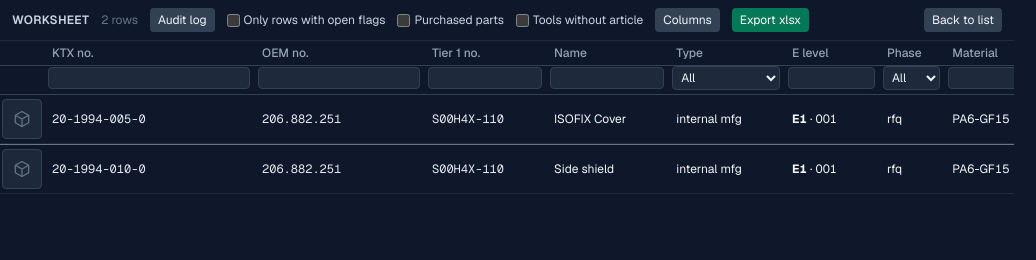
Test case: WorksheetView › lists articles sorted by part number, purchased rows only on request
Click the checkbox with test id "ws-kind-purchased": point(404, 20) [398,14,410,26]
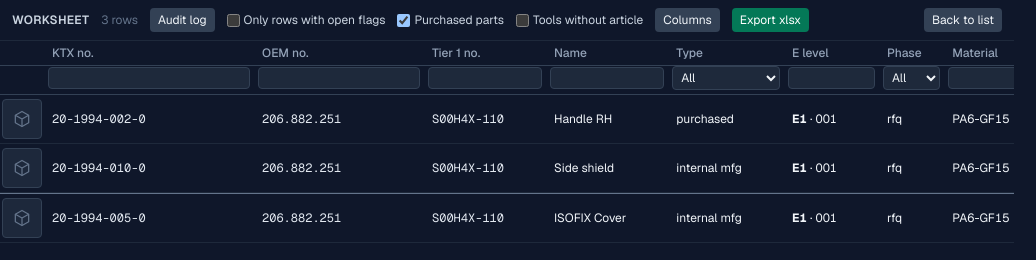
Check: the text with test id "ws-count" reads "3 rows", box [101,12,138,28]
